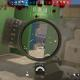Character: (42, 38, 46, 48)
Head: (44, 38, 46, 40)
